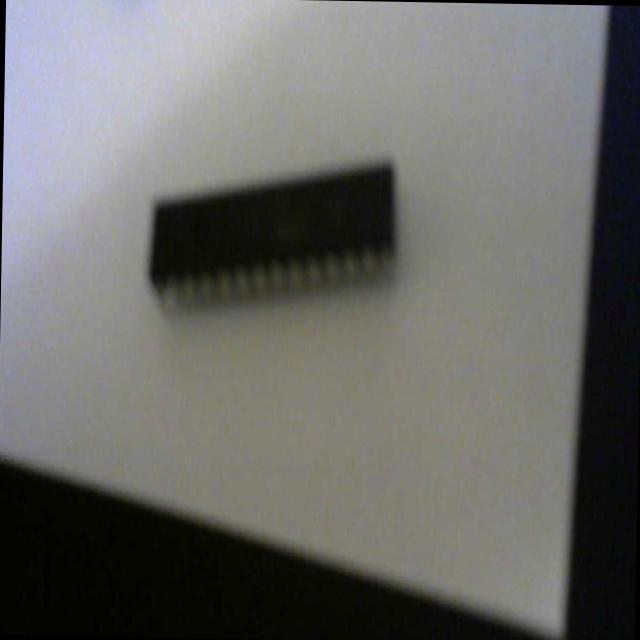atmega: (144, 150, 400, 320)
